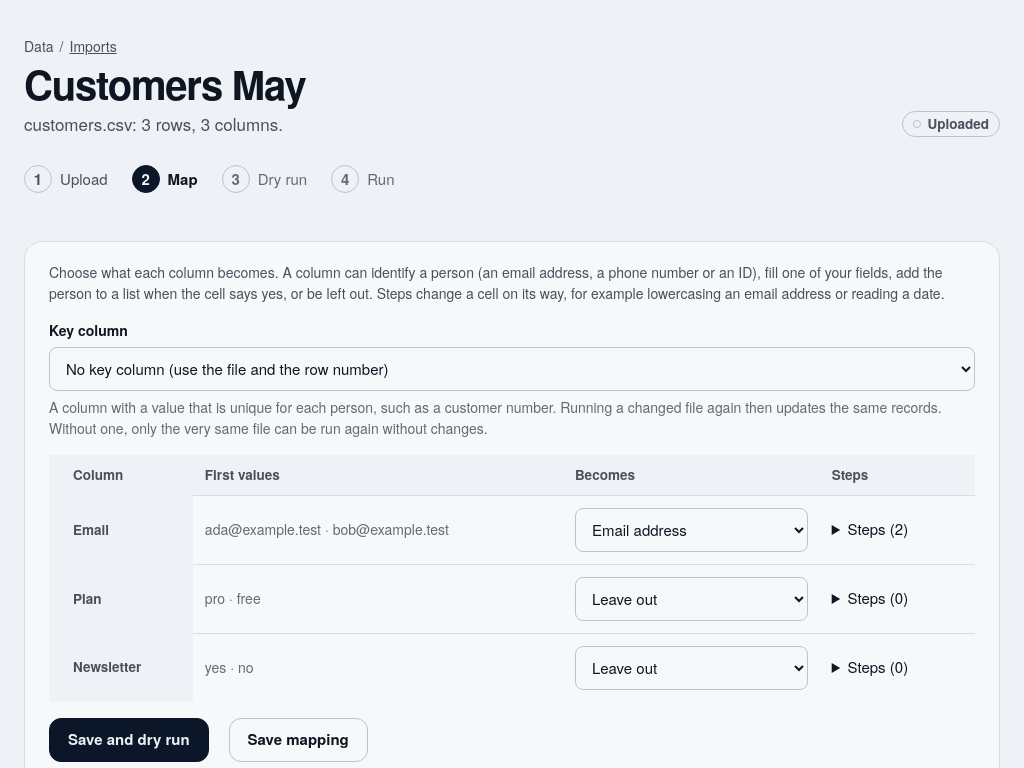
Test case: the map step › keeps the mapping and stays on the step when only saving
Click the button "Save mapping" at (298, 740), box [229, 718, 368, 762]
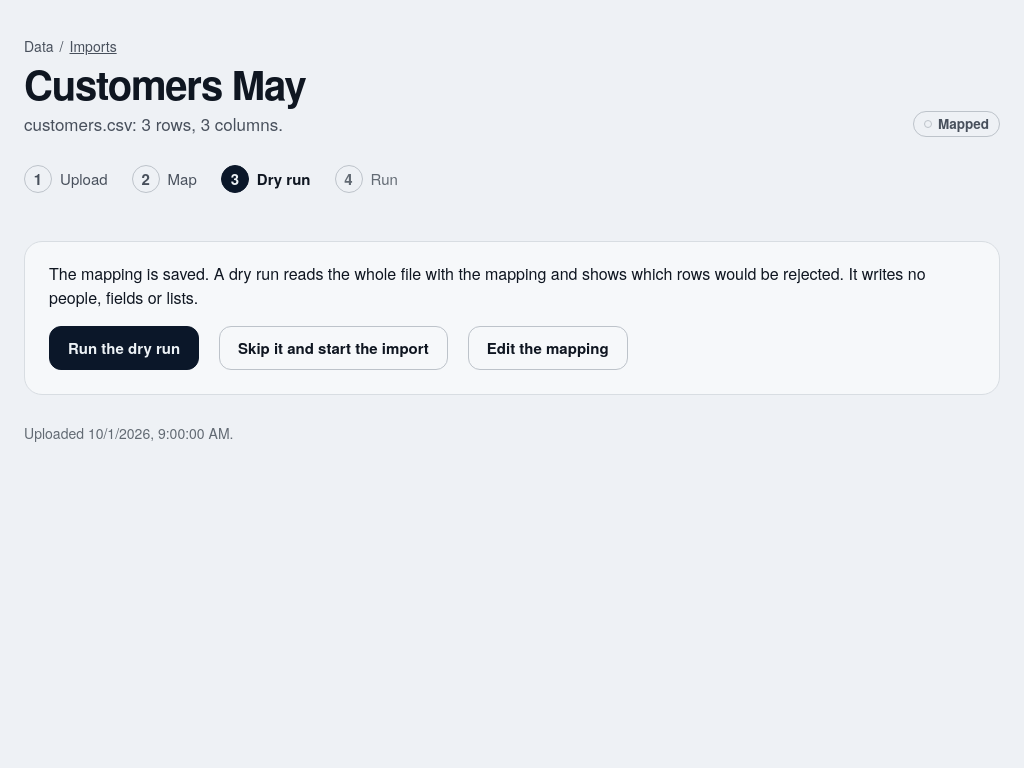
Check: the text "The mapping is saved." is shown, box [49, 262, 926, 309]
Check: the button "Run the dry run" is shown, box [49, 326, 199, 370]
